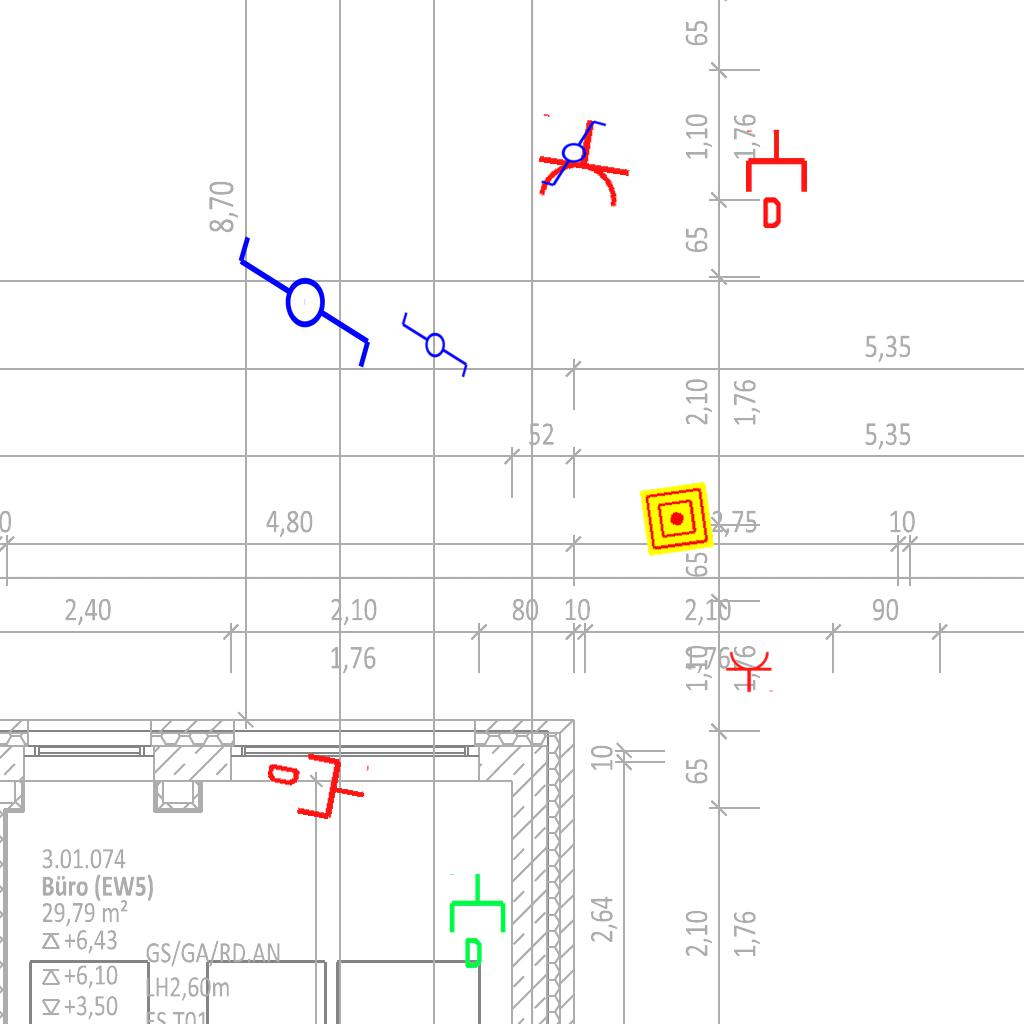Datenanschluss_einfach: (260, 742, 373, 830), (445, 871, 514, 971), (742, 128, 811, 228)
NAM-Nichtautomatischer_Melder: (639, 481, 715, 557)
Schukosteckdose_einfach: (526, 110, 639, 212), (725, 650, 775, 693)
Wechselschalter: (231, 232, 375, 389), (398, 310, 470, 388), (539, 118, 617, 190)
